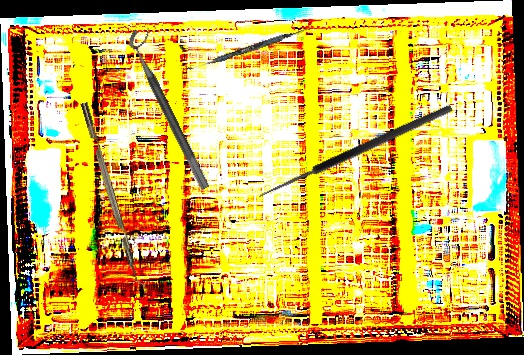Chopper: (80, 99, 150, 290)
Fixation Ring: (124, 24, 223, 191)
Hook Surgical: (256, 102, 458, 211)
Spatula Surgical: (184, 23, 311, 76)
